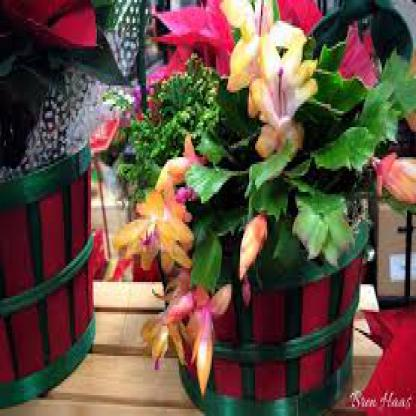Aglonema: (214, 238, 408, 409), (5, 25, 193, 167)
